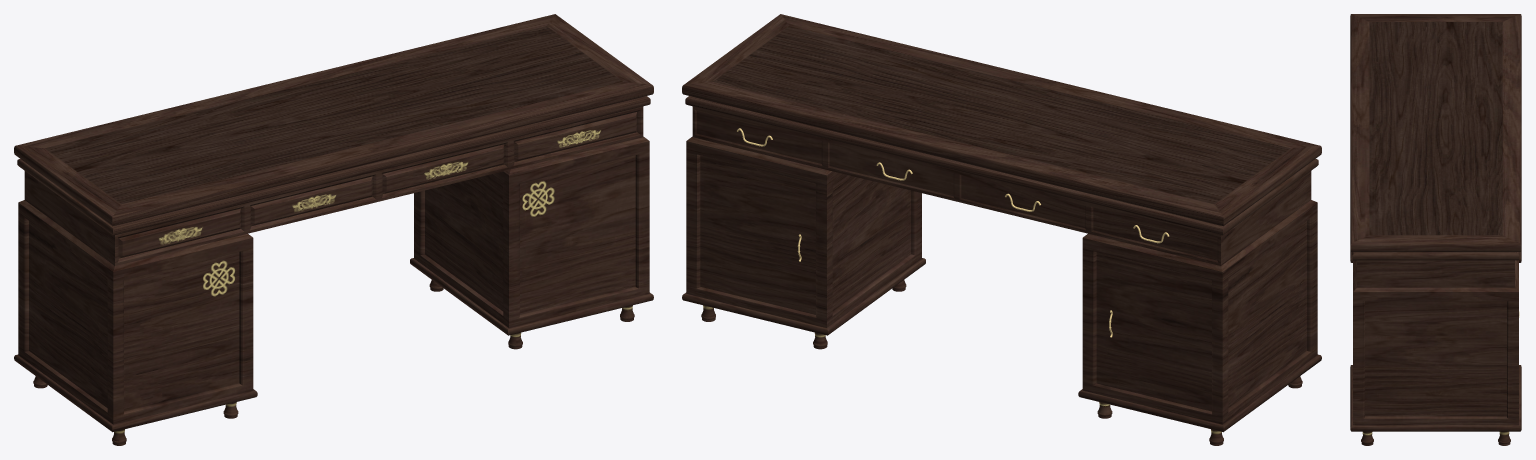
The model's file is desk.fbx.
The picture shows the model from 3 angles, left to right: view 1: azimuth 30°, elevation 25°; view 2: azimuth 150°, elevation 25°; view 3: azimuth 270°, elevation 25°; orthographic projection. The views are drawn at different scales.
Parts seen in each view (by area): view 1: Box041; view 2: Box041; view 3: Box041.
Boxes of the visible parts, <box> form: Box041: <box>14,14,653,445</box>; Box041: <box>682,14,1321,445</box>; Box041: <box>1350,14,1521,445</box>.
Size of the model in its own units: 200 by 83.7 by 62.73.
Materials: 1 (1 with a texture image).
